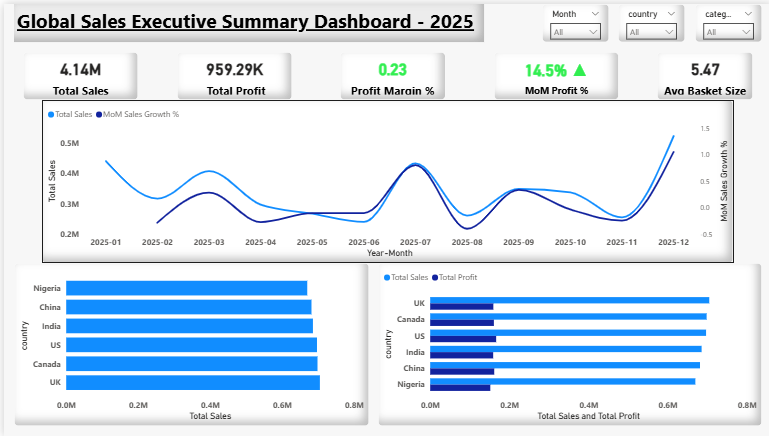

Layout of this report page (visuals, bound fields, positions):
{"tool":"powerbi","page":{"name":"Executive Summary","canvas":[1280,720],"ordinal":0},"visuals":[{"type":"card","fields":{"Values":["sales fact_sales.Total Sales"]},"box":[32,80,192,80],"z":0},{"type":"card","fields":{"Values":["Sum(sales fact_sales.total_profit)"]},"box":[288,80,192,80],"z":1000},{"type":"card","fields":{"Values":["sales fact_sales.Profit Margin %"]},"box":[560,80,176,80],"z":2000},{"type":"card","fields":{"Values":["sales fact_sales.MoM KPI"]},"box":[816,80,208,80],"z":3000},{"type":"card","fields":{"Values":["sales fact_sales.Avg Basket Size"]},"box":[1088,80,160,80],"z":4000},{"type":"lineChart","title":"Monthly Sales & Growth Trend","fields":{"Category":["Dim_Date.Year-Month"],"Y":["sales fact_sales.Total Sales"],"Y2":["sales fact_sales.MoM Sales Growth %"]},"box":[64,160,1152,272],"z":5000},{"type":"clusteredBarChart","fields":{"Y":["sales fact_sales.Total Sales"],"Category":["DIM_STORE.country"]},"box":[16,432,592,272],"z":6000},{"type":"clusteredBarChart","fields":{"Category":["DIM_STORE.country"],"Y":["sales fact_sales.Total Sales","sales fact_sales.Total Profit"]},"box":[624,432,640,272],"z":7000},{"type":"slicer","fields":{"Values":["Dim_Date.Month Name"]},"box":[896,0,112,64],"z":8000},{"type":"slicer","fields":{"Values":["DIM_STORE.country"]},"box":[1024,0,112,64],"z":9000},{"type":"slicer","fields":{"Values":["Dim_Product.category"]},"box":[1152,0,112,64],"z":10000},{"type":"textbox","box":[16,0,784,64],"z":11000}]}

Visuals, with their boxes in screenshot pixels (x1, y1, x2, y2), scaled from the page's 1280x720 canvas onto the 769x436 screenshot:
card - sales fact_sales.Total Sales: Rect(19, 48, 135, 97)
card - Sum(sales fact_sales.total_profit): Rect(173, 48, 288, 97)
card - sales fact_sales.Profit Margin %: Rect(336, 48, 442, 97)
card - sales fact_sales.MoM KPI: Rect(490, 48, 615, 97)
card - sales fact_sales.Avg Basket Size: Rect(654, 48, 750, 97)
"Monthly Sales & Growth Trend" lineChart: Rect(38, 97, 731, 262)
clusteredBarChart - sales fact_sales.Total Sales x DIM_STORE.country: Rect(10, 262, 365, 426)
clusteredBarChart - DIM_STORE.country x sales fact_sales.Total Sales: Rect(375, 262, 759, 426)
slicer - Dim_Date.Month Name: Rect(538, 0, 606, 39)
slicer - DIM_STORE.country: Rect(615, 0, 682, 39)
slicer - Dim_Product.category: Rect(692, 0, 759, 39)
textbox: Rect(10, 0, 481, 39)
